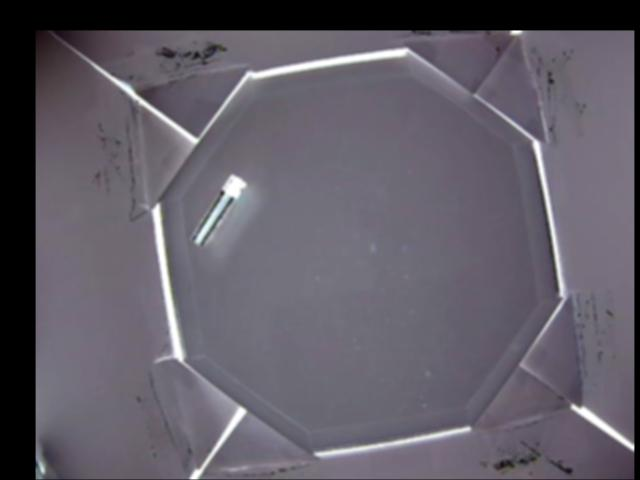Battery: (191, 171, 248, 253)
